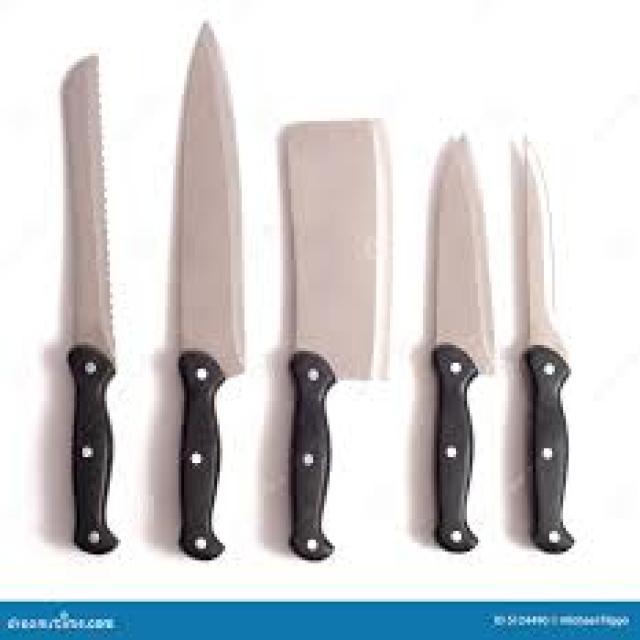Knife: (277, 115, 390, 560), (170, 18, 244, 557), (58, 50, 118, 552), (428, 129, 494, 552), (511, 133, 574, 552)
